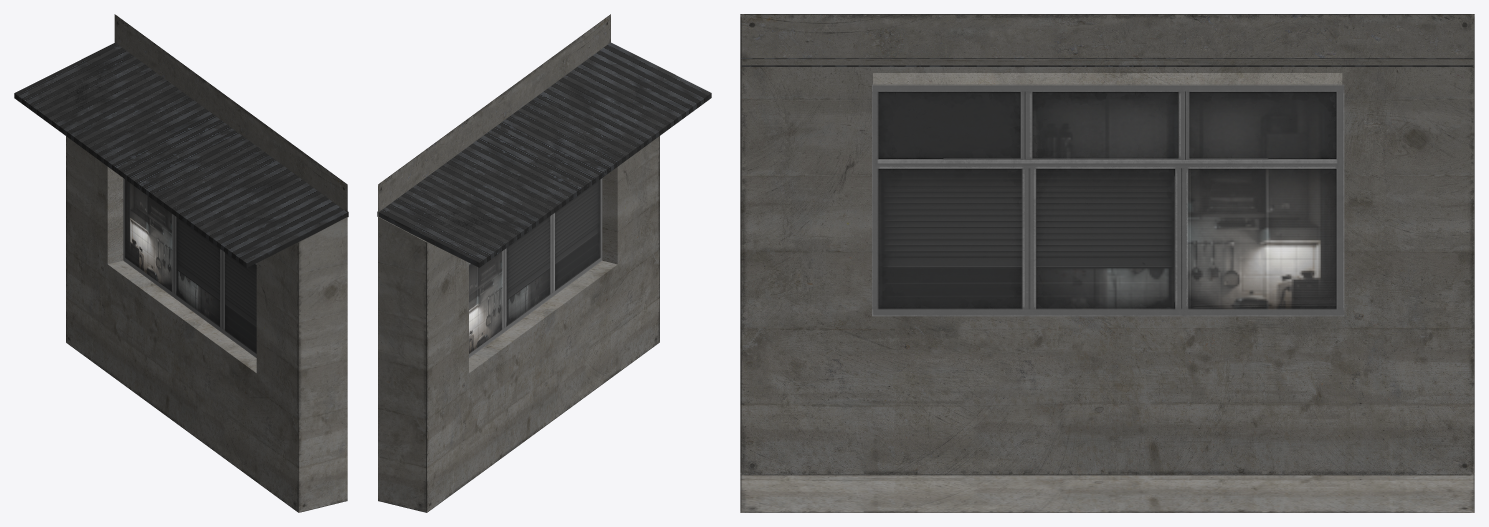
File: CP_Windows_B_4x3m_05.fbx
3 renders of one model, left to right at view 1: azimuth 30°, elevation 25°; view 2: azimuth 150°, elevation 25°; view 3: azimuth 270°, elevation 25°, orthographic. The views are drawn at different scales.
Visible parts, largest first — view 1: CP_Windows_B_4x3m_05; view 2: CP_Windows_B_4x3m_05; view 3: CP_Windows_B_4x3m_05.
Part boxes in pixels (<box>): CP_Windows_B_4x3m_05: <box>14,14,348,512</box>; CP_Windows_B_4x3m_05: <box>377,14,711,512</box>; CP_Windows_B_4x3m_05: <box>740,14,1474,512</box>.
Size of the model in its own units: 101 by 300 by 400.
